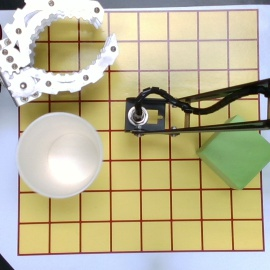cup: (16, 112, 104, 201)
